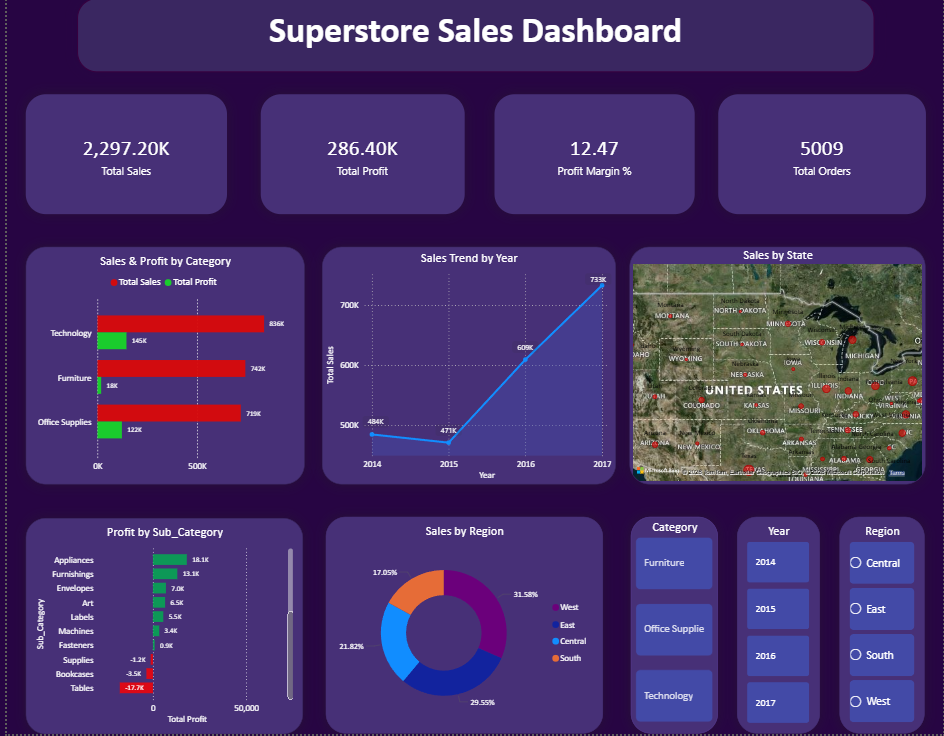

The page's visual inventory and layout, read from the dashboard file:
{"tool":"powerbi","page":{"name":"Page 1","canvas":[1400,1100],"ordinal":0},"visuals":[{"type":"card","fields":{"Values":["superstore_clean.Total Sales"]},"box":[28,143.9,300.8,179.3],"z":0},{"type":"card","fields":{"Values":["superstore_clean.Total Profit"]},"box":[379.2,143.9,304.5,179.3],"z":1000},{"type":"card","fields":{"Values":["superstore_clean.Total Orders"]},"box":[1063,143.9,310.1,179.3],"z":2000},{"type":"card","fields":{"Values":["superstore_clean.Profit Margin %"]},"box":[728.6,143.9,298.9,179.3],"z":3000},{"type":"clusteredBarChart","title":"Sales & Profit by Category","fields":{"Category":["superstore_clean.Category"],"Y":["superstore_clean.Total Sales","superstore_clean.Total Profit"]},"box":[28,371.8,416.6,355],"z":4000},{"type":"lineChart","title":"Sales Trend by Year","fields":{"Category":["superstore_clean.Order_Year"],"Y":["superstore_clean.Total Sales"]},"box":[470.8,371.8,439,355],"z":5000},{"type":"clusteredBarChart","title":"Profit by Sub_Category","fields":{"Category":["superstore_clean.Sub_Category"],"Y":["superstore_clean.Total Profit"]},"box":[28,776.8,414.7,323.2],"z":6000},{"type":"map","title":"Sales by State","fields":{"Category":["superstore_clean.State"],"Size":["superstore_clean.Total Sales"]},"box":[930.4,371.8,442.8,355],"z":7000},{"type":"donutChart","title":"Sales by Region","fields":{"Category":["superstore_clean.Region"],"Y":["superstore_clean.Total Sales"]},"box":[477.2,775.6,414.4,324.4],"z":8000},{"type":"listSlicer","fields":{"Values":["superstore_clean.Region"]},"box":[1244.9,775.6,127.4,324.4],"z":9000},{"type":"advancedSlicerVisual","title":"Year","fields":{"Values":["superstore_clean.Order_Year"]},"box":[1090.4,775.6,124,324.4],"z":10000},{"type":"advancedSlicerVisual","fields":{"Values":["superstore_clean.Category"]},"box":[932.4,775.6,130.8,324.4],"z":11000},{"type":"textbox","title":"Superstore Sales Dashboard","box":[105,0,1191.9,111],"z":11001}]}

Visuals, with their boxes in screenshot pixels (x1, y1, x2, y2), scaled from the page's 1400x1100 canvas onto the 944x736 screenshot:
card - superstore_clean.Total Sales: 19 96 222 216
card - superstore_clean.Total Profit: 256 96 461 216
card - superstore_clean.Total Orders: 717 96 926 216
card - superstore_clean.Profit Margin %: 491 96 693 216
"Sales & Profit by Category" clusteredBarChart: 19 249 300 486
"Sales Trend by Year" lineChart: 317 249 613 486
"Profit by Sub_Category" clusteredBarChart: 19 520 299 735
"Sales by State" map: 627 249 926 486
"Sales by Region" donutChart: 322 519 601 735
listSlicer - superstore_clean.Region: 839 519 925 735
"Year" advancedSlicerVisual: 735 519 819 735
advancedSlicerVisual - superstore_clean.Category: 629 519 717 735
"Superstore Sales Dashboard" textbox: 71 0 874 74
